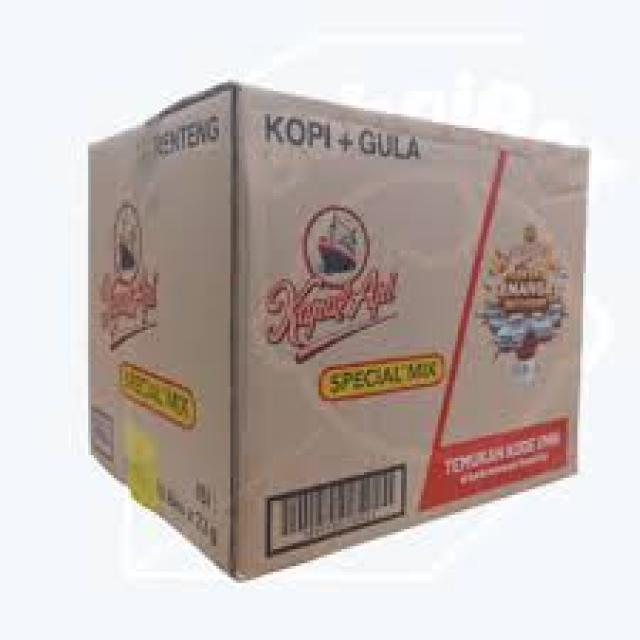Kardus kondisi bagus: (87, 84, 592, 583)
